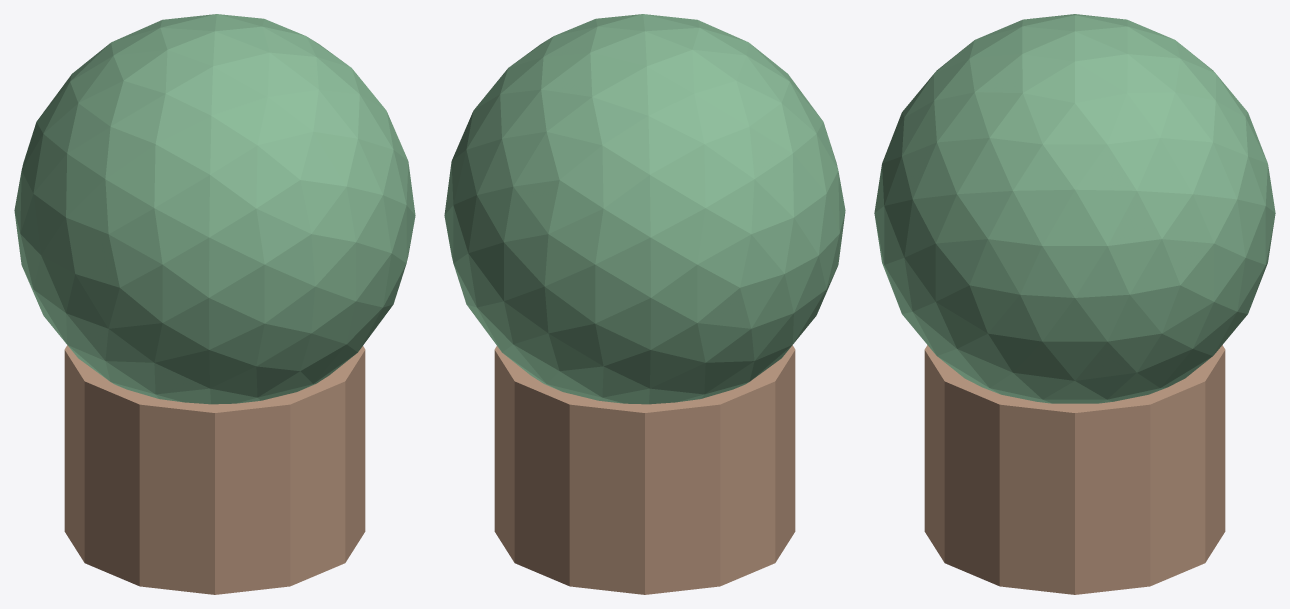
The model's file is planter.glb.
The picture shows the model from 3 angles, left to right: view 1: azimuth 30°, elevation 25°; view 2: azimuth 150°, elevation 25°; view 3: azimuth 270°, elevation 25°; orthographic projection.
Parts seen in each view (by area): view 1: leaves, pot; view 2: leaves, pot; view 3: leaves, pot.
Part boxes in pixels (x1=…): leaves: x1=14, y1=14, x2=415, y2=404; pot: x1=64, y1=345, x2=365, y2=594; leaves: x1=444, y1=14, x2=845, y2=404; pot: x1=494, y1=345, x2=795, y2=594; leaves: x1=874, y1=14, x2=1275, y2=403; pot: x1=924, y1=345, x2=1225, y2=594.
Size of the model in its own units: 1.2 by 1.65 by 1.2.
